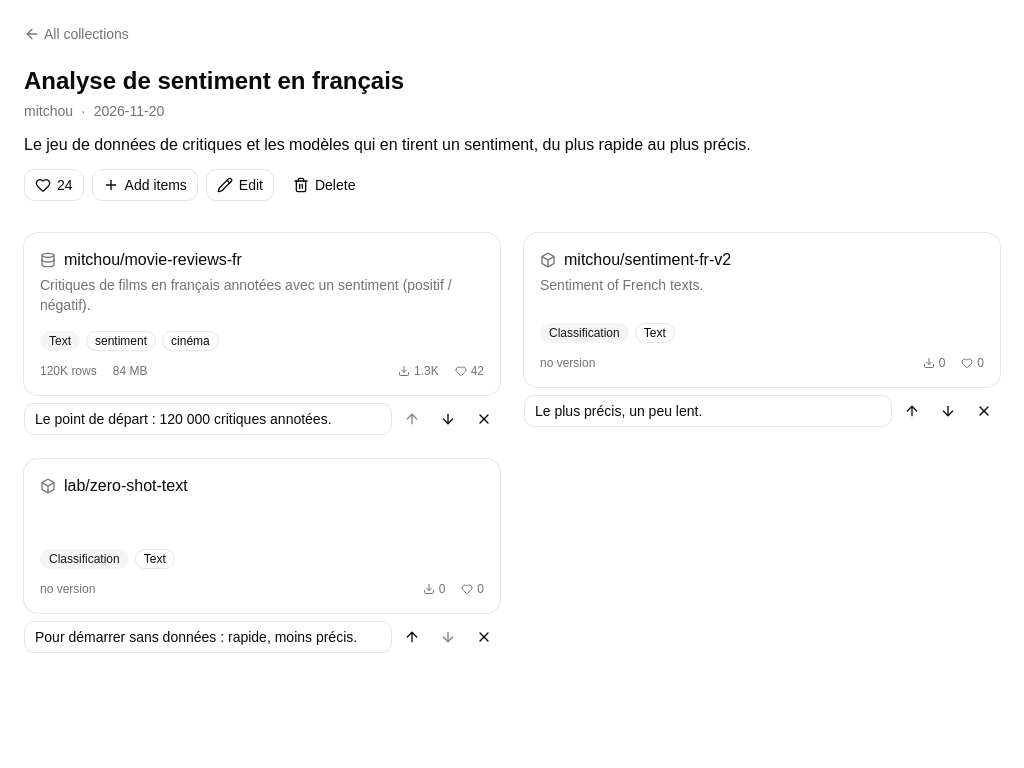
Test: collections › lets the owner add an item, write a note and take it out
This screenshot has width=1024, height=768.
Expected: the text "mitchou/sentiment-fr-v2" is shown, [540, 251, 731, 268]
Click the button "Add items" at point(145, 185), box [92, 169, 198, 201]
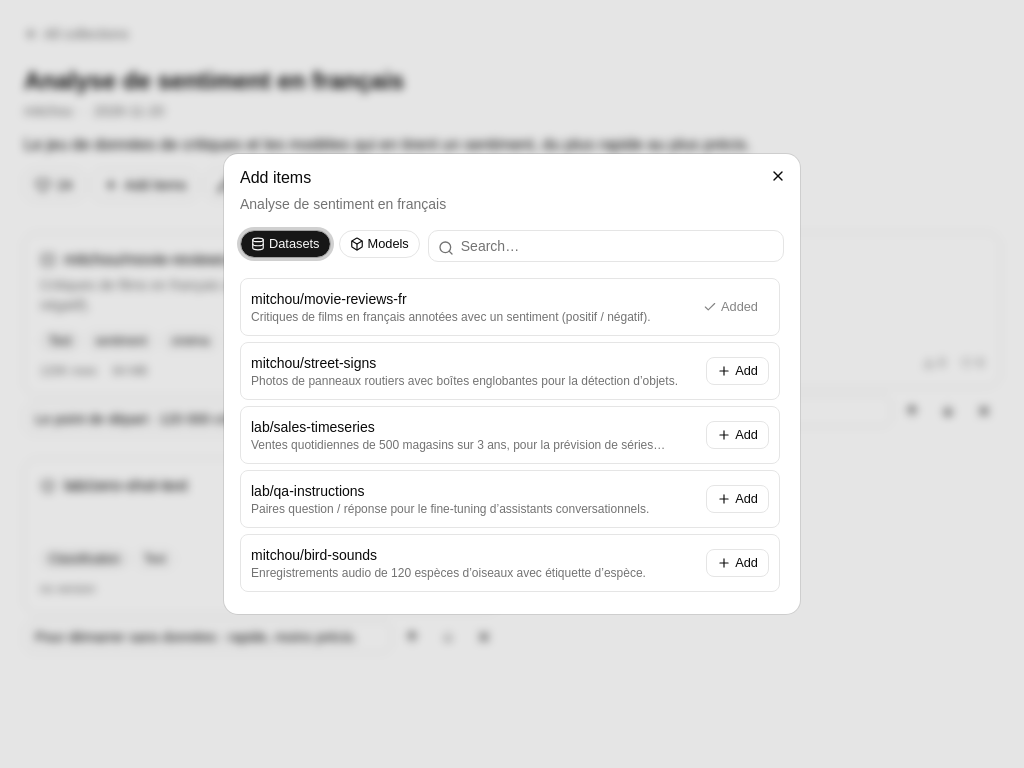
Click the button "Models" at point(379, 244), box [338, 230, 420, 258]
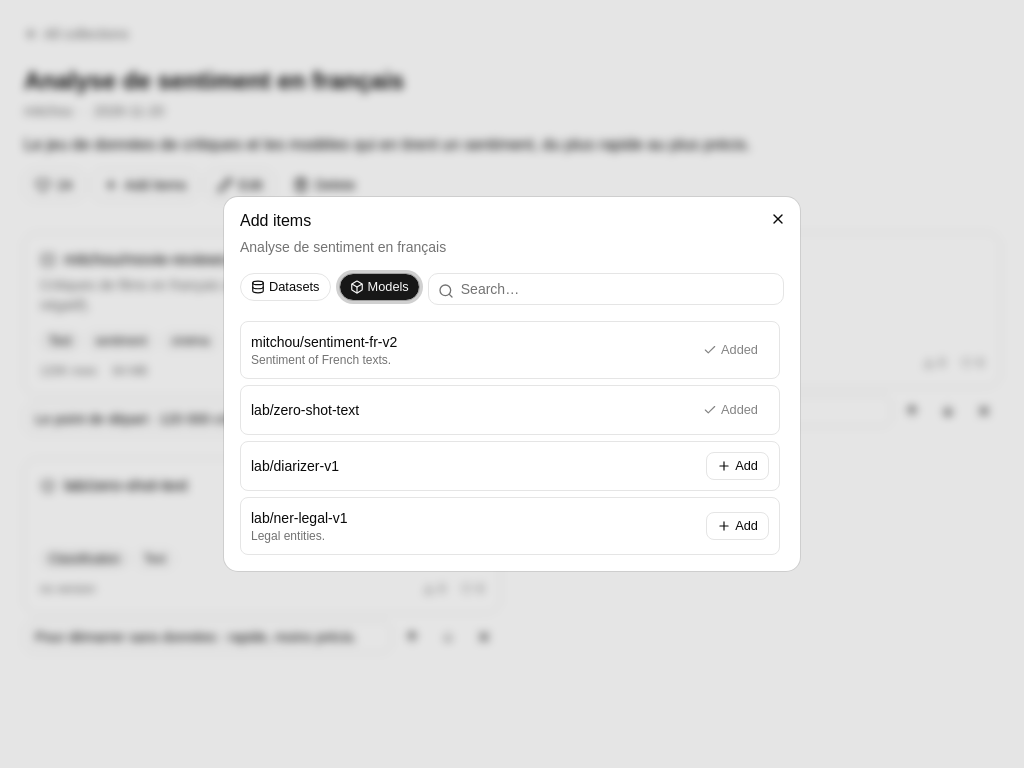
Type "ner-legal" into the field labelled "Search…" at point(606, 289), box [428, 273, 784, 305]
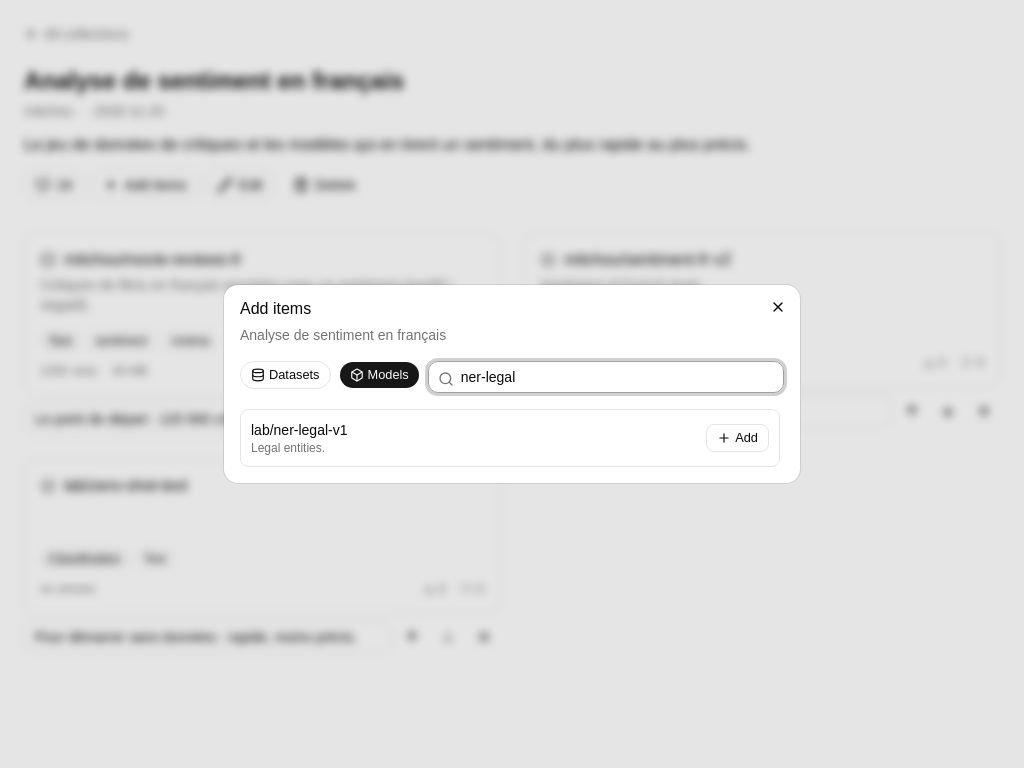
Click the button "Add" at point(738, 438), box [706, 424, 769, 452]
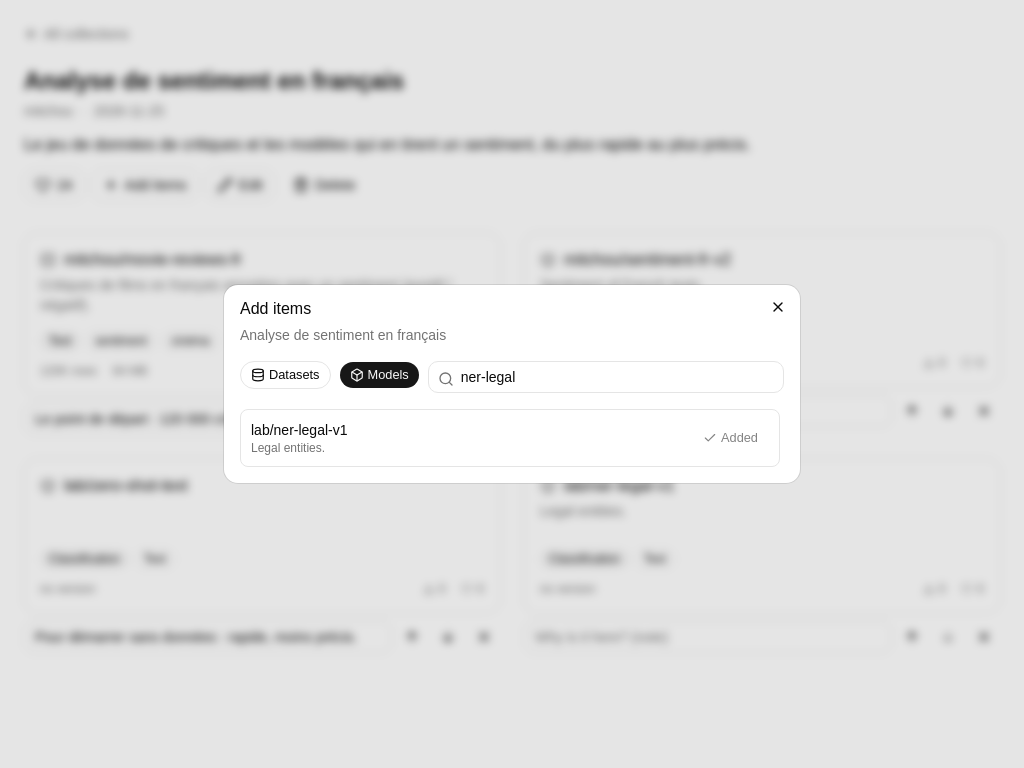
Press Escape
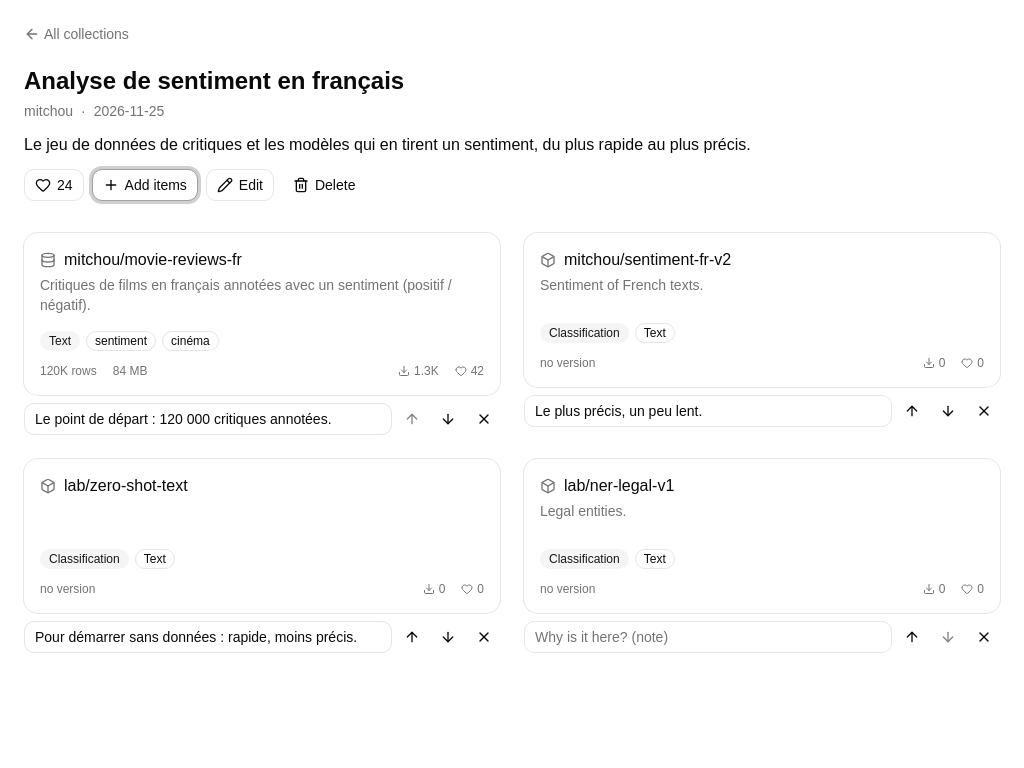
Expected: the text "lab/ner-legal-v1" is shown, [540, 477, 674, 494]
Click the button named "Remove from the collection" below "1.3K" at point(484, 419), box [468, 403, 500, 435]
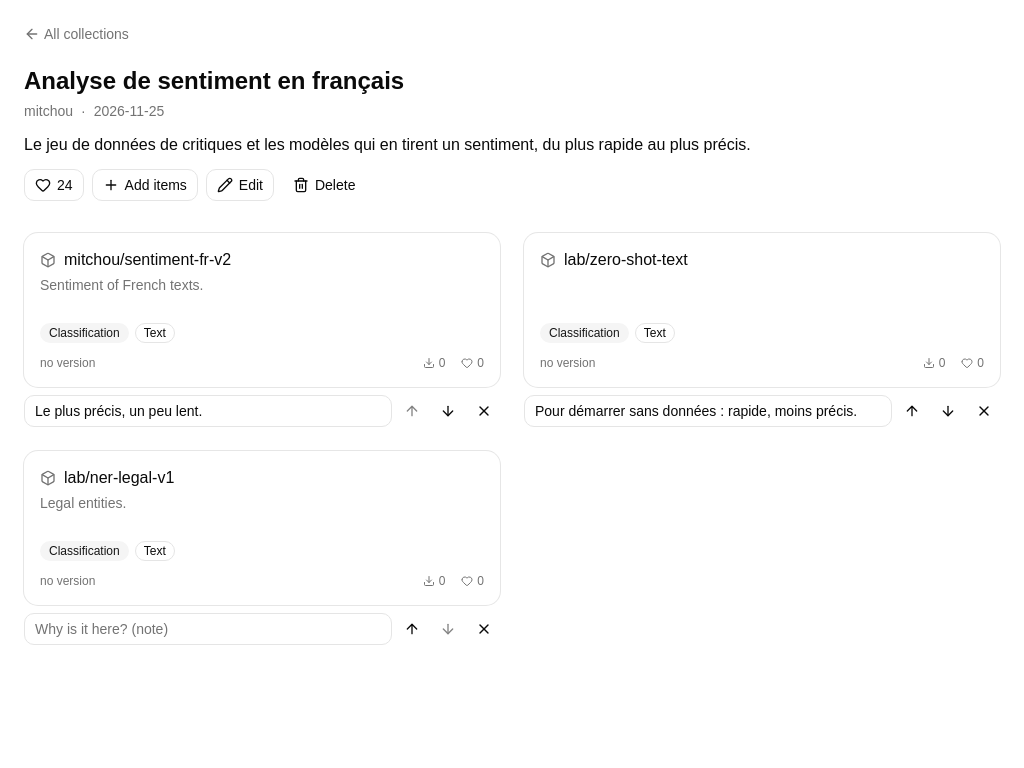
Expected: the text "mitchou/movie-reviews-fr" is gone
